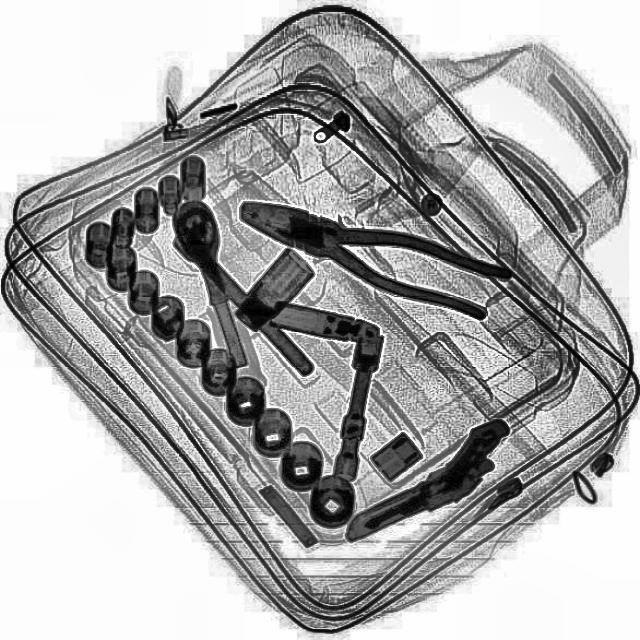Gun: (321, 415, 527, 541)
Pliers: (226, 183, 512, 323)
